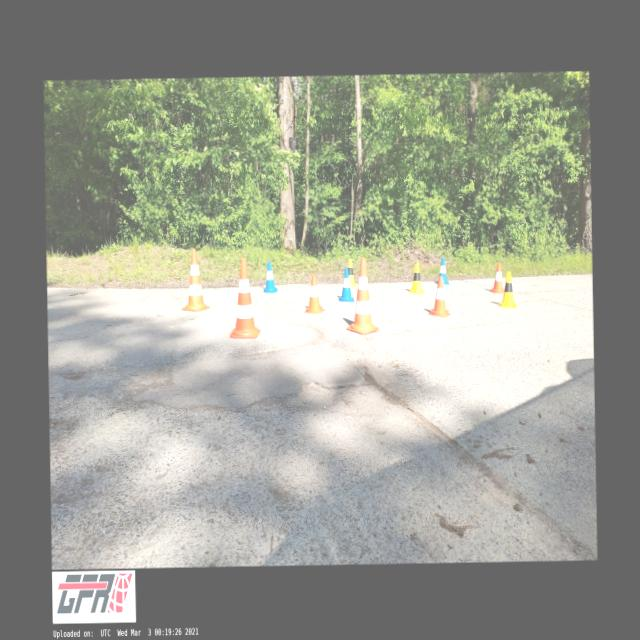blue_cone: (338, 266, 354, 302), (262, 261, 278, 293), (439, 257, 449, 285)
large_orange_cone: (228, 257, 260, 339), (345, 257, 378, 335), (180, 248, 210, 310)
orange_cone: (428, 276, 450, 317), (302, 274, 324, 314), (490, 262, 504, 292)
yellow_cone: (498, 271, 516, 307), (408, 262, 423, 294), (346, 258, 356, 287)
